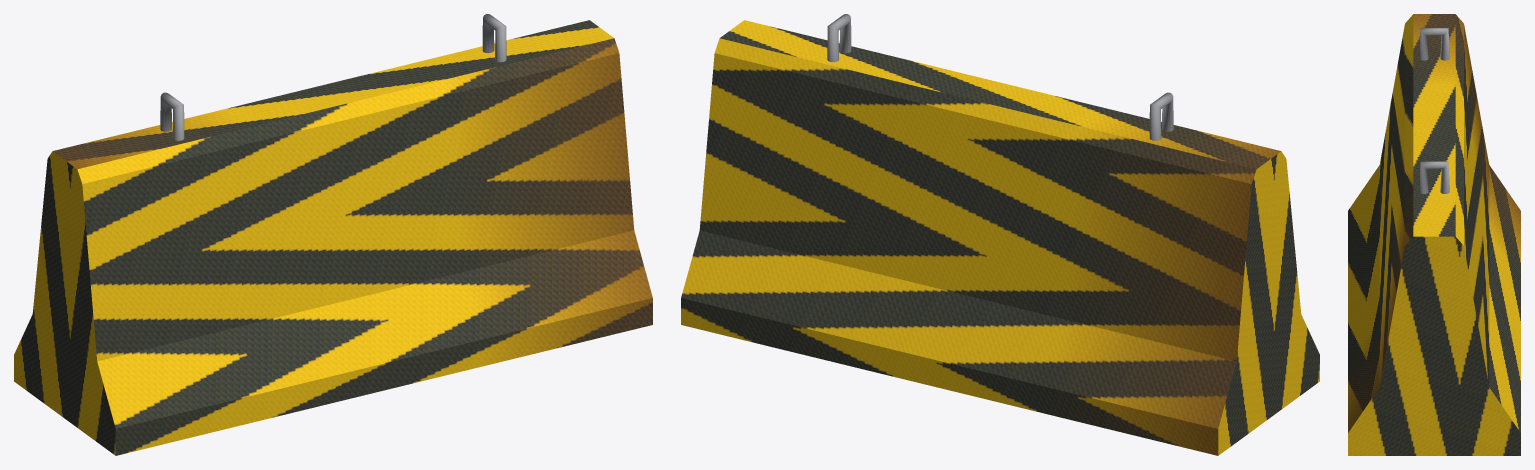
File: prop_hazard_barrier.glb
3 renders of one model, left to right at view 1: azimuth 30°, elevation 25°; view 2: azimuth 150°, elevation 25°; view 3: azimuth 270°, elevation 25°, orthographic. The views are drawn at different scales.
Parts seen in each view (by area): view 1: Concrete_Jersey_Barrier, Rebar_0.75, Rebar_-0.75; view 2: Concrete_Jersey_Barrier, Rebar_-0.75, Rebar_0.75; view 3: Concrete_Jersey_Barrier, Rebar_0.75, Rebar_-0.75.
Part boxes in pixels (x1=…): Concrete_Jersey_Barrier: x1=14, y1=20, x2=652, y2=455; Rebar_0.75: x1=482, y1=14, x2=506, y2=62; Rebar_-0.75: x1=160, y1=92, x2=184, y2=140; Concrete_Jersey_Barrier: x1=681, y1=20, x2=1319, y2=455; Rebar_-0.75: x1=1149, y1=92, x2=1173, y2=140; Rebar_0.75: x1=827, y1=14, x2=851, y2=62; Concrete_Jersey_Barrier: x1=1348, y1=14, x2=1520, y2=455; Rebar_0.75: x1=1419, y1=161, x2=1449, y2=193; Rebar_-0.75: x1=1419, y1=28, x2=1449, y2=60.
Bounding box in the file's own units: 2.5 × 1.31 × 0.82.
Materials: 2 (1 with a texture image).
